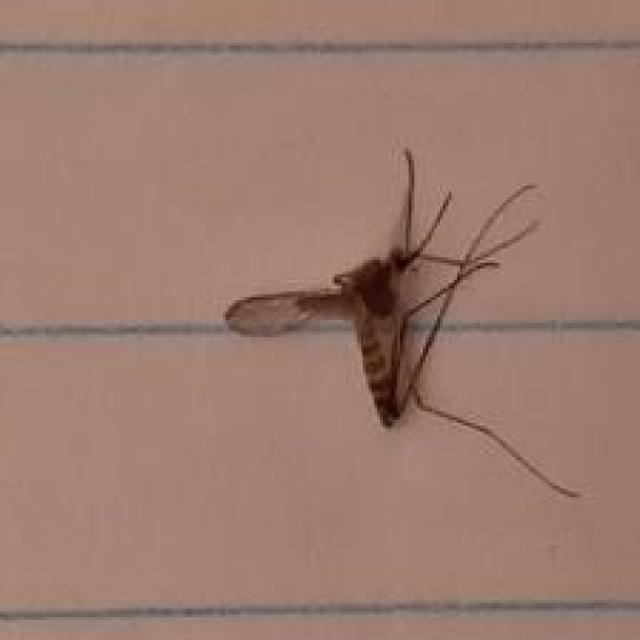Culex: (223, 146, 583, 500)
